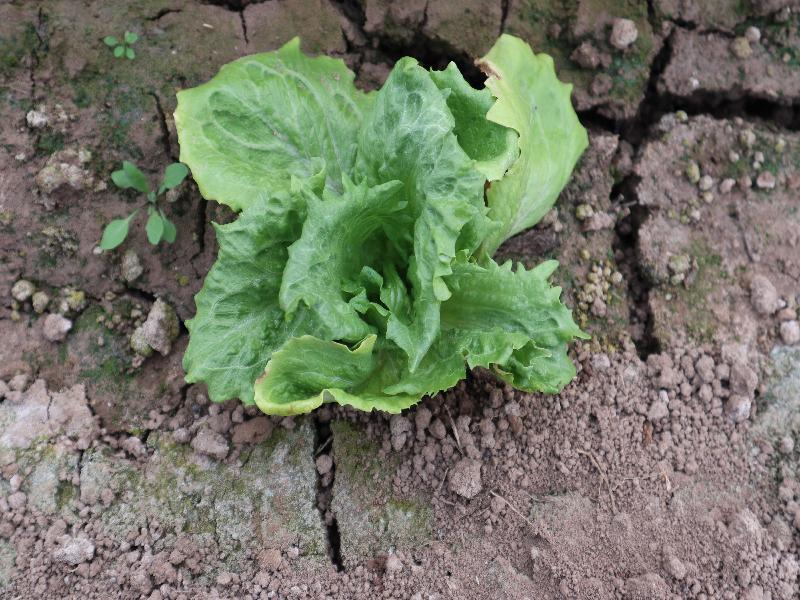lettuce: (169, 31, 592, 417)
